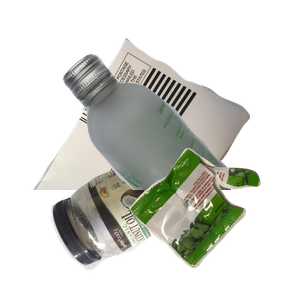glass: (60, 51, 300, 231)
paper: (31, 35, 271, 215)
plastic: (48, 152, 228, 300)
trash: (127, 146, 300, 300)
